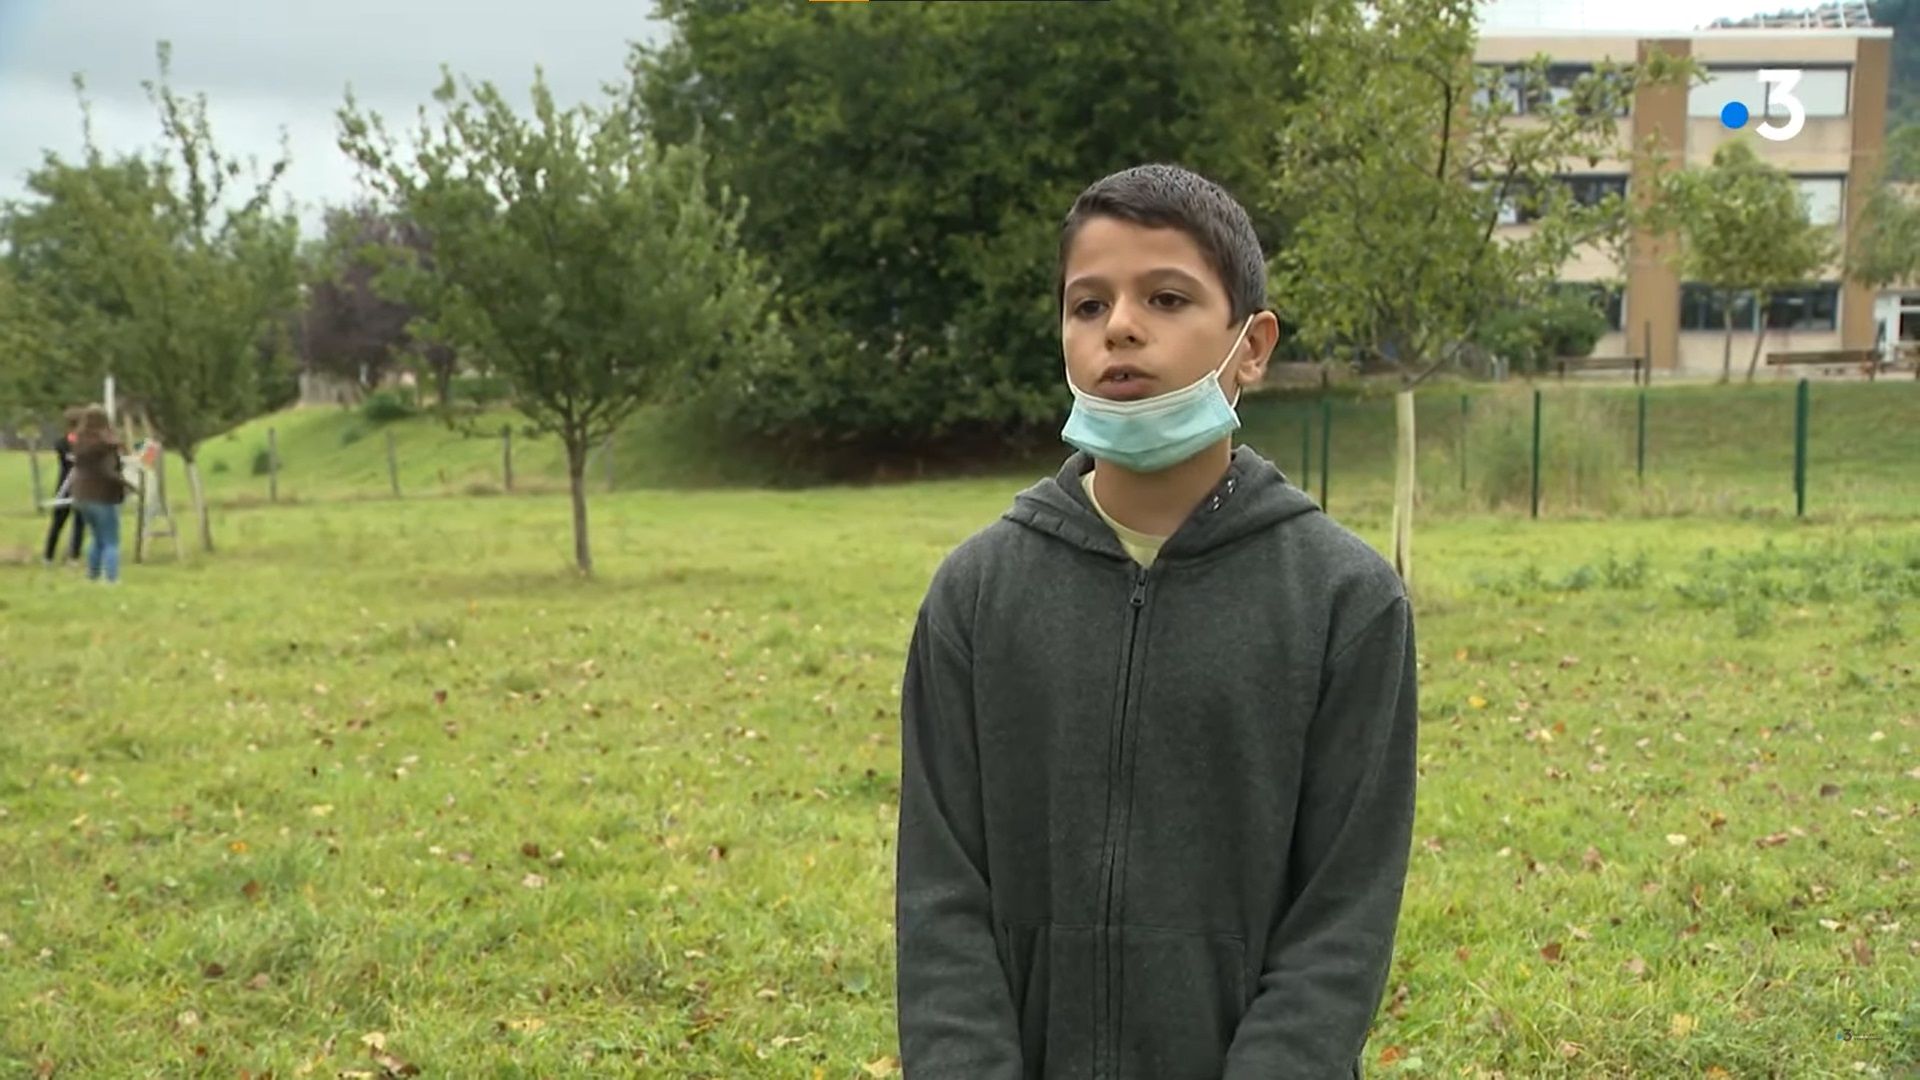with_incorrect_mask: (1055, 259, 1270, 461)
